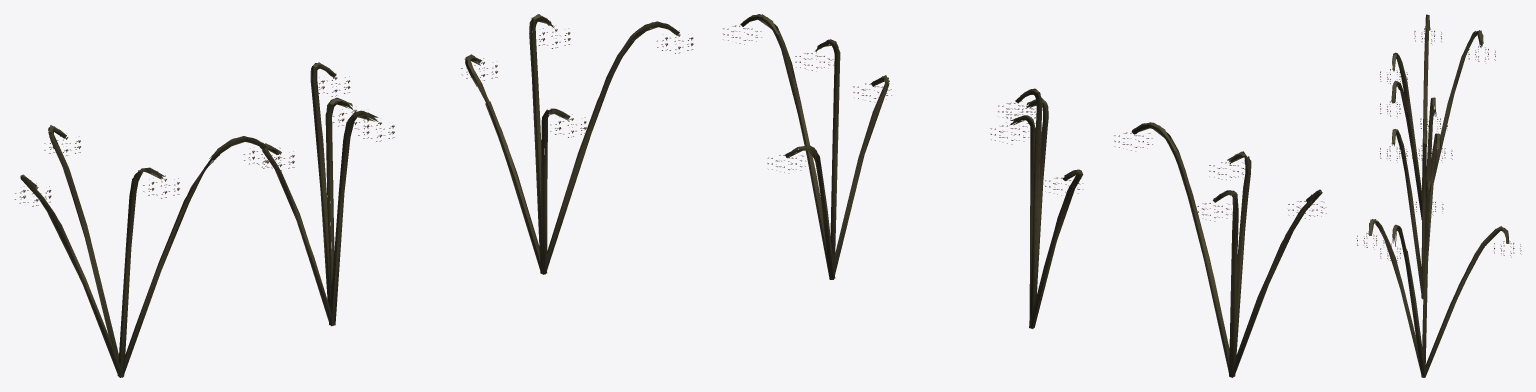
The model's file is NT13_DeadFlowers.glb.
3 renders of one model, left to right at view 1: azimuth 30°, elevation 25°; view 2: azimuth 150°, elevation 25°; view 3: azimuth 270°, elevation 25°, orthographic. The views are drawn at different scales.
Visible parts, largest first — view 1: NT13_DeadFlowers; view 2: NT13_DeadFlowers; view 3: NT13_DeadFlowers.
Boxes of the visible parts, x1,y1,x2,y2 form: NT13_DeadFlowers: [14, 14, 693, 377]; NT13_DeadFlowers: [723, 14, 1326, 377]; NT13_DeadFlowers: [1356, 14, 1521, 377].
Bounding box in the file's own units: 0.3887 × 0.1465 × 0.111.
Materials: 2 (2 with a texture image).
